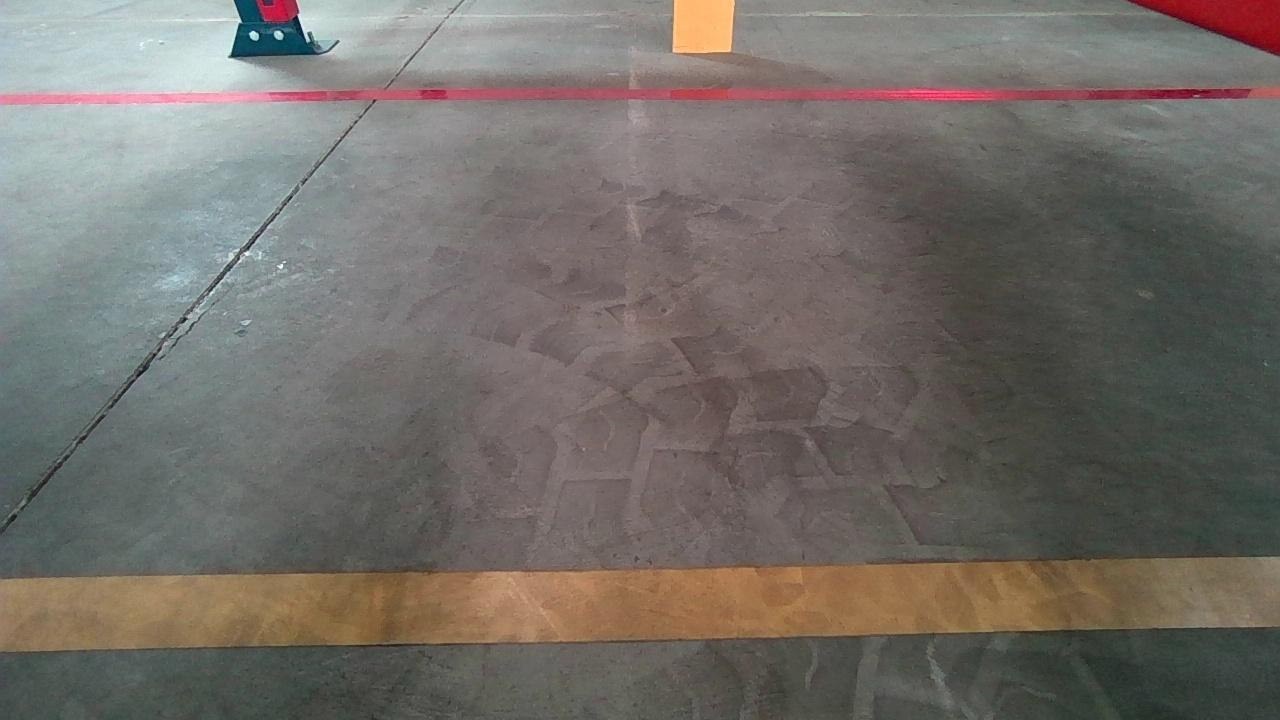orange_strip: (673, 0, 735, 53)
red_line: (3, 83, 1273, 112)
yellow_line: (0, 552, 1275, 656)
